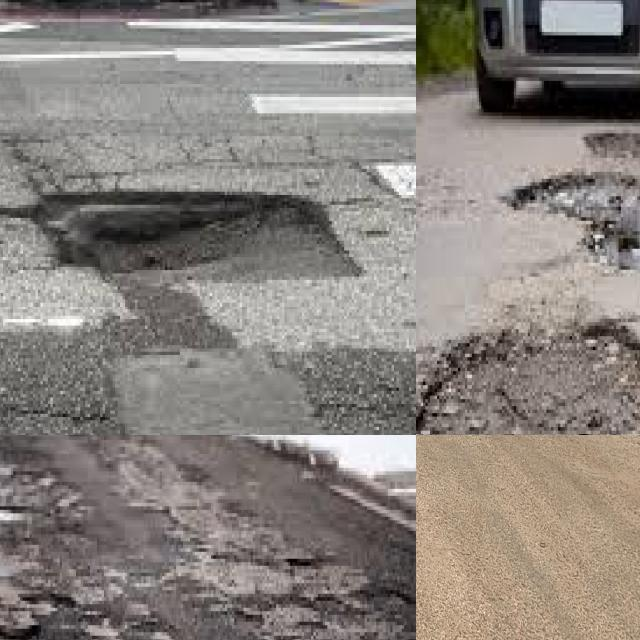Pothole: (25, 192, 362, 277), (418, 336, 640, 435), (516, 175, 640, 270)
